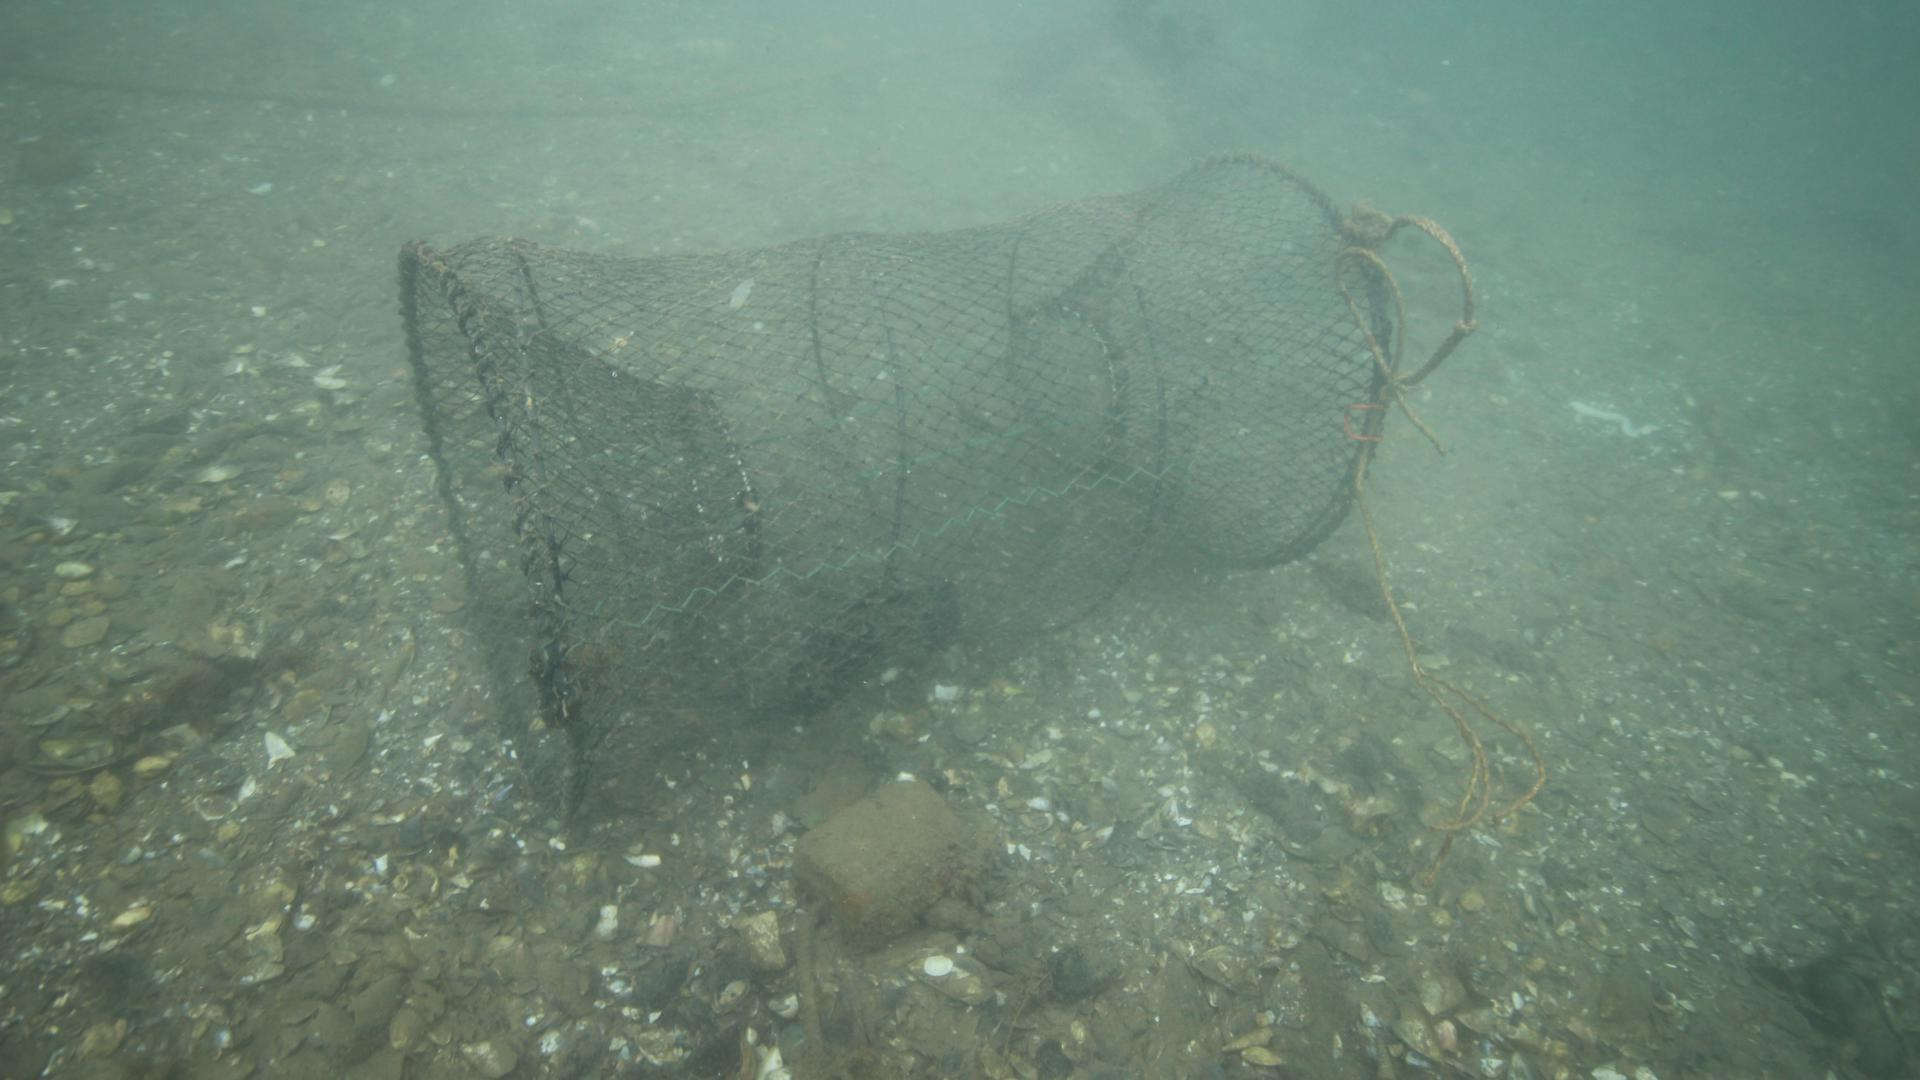bundle of ropes: (1342, 210, 1476, 392)
spring fish trap: (394, 152, 1400, 843)
